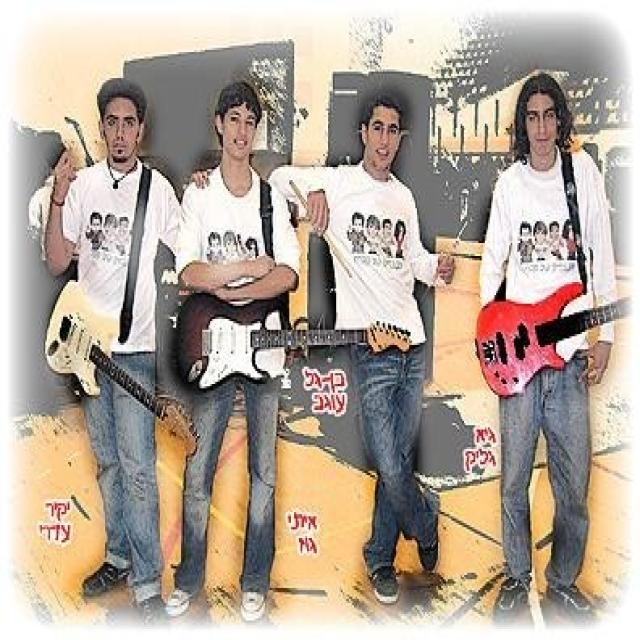guitar: (41, 278, 204, 458), (172, 289, 410, 395), (473, 276, 634, 402)
